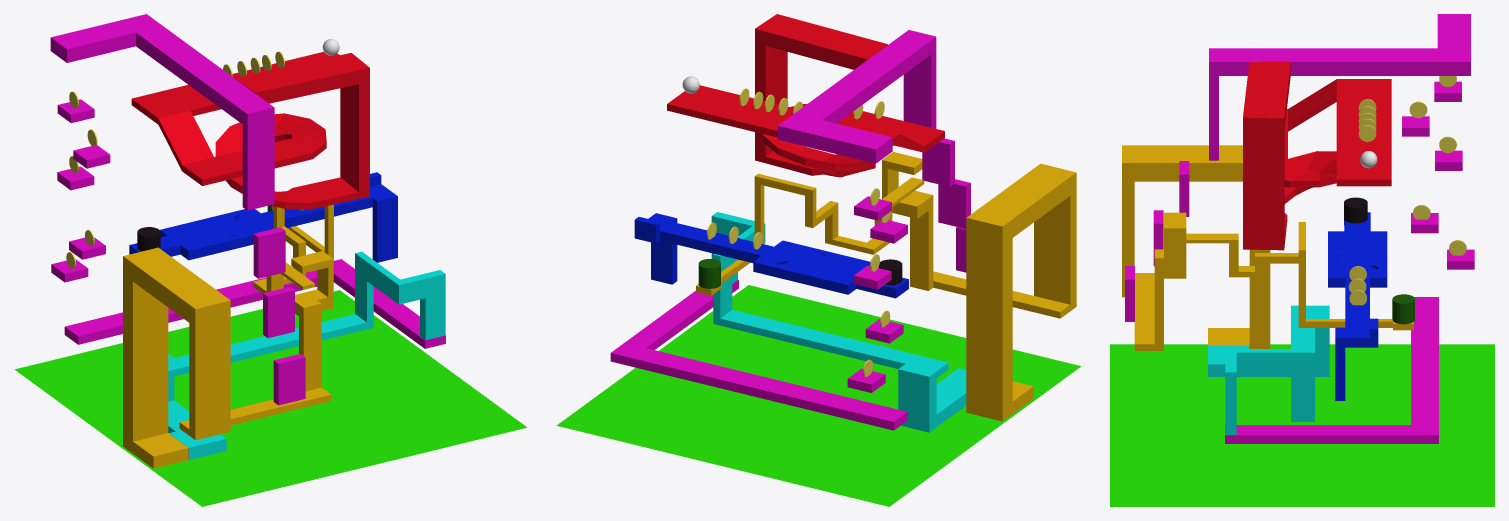
Rendered from Prototipo.fbx.
3 views of the same model, side by side, from view 1: azimuth 30°, elevation 25°; view 2: azimuth 150°, elevation 25°; view 3: azimuth 270°, elevation 25° (orthographic). The views are drawn at different scales.
Visible parts, largest first — view 1: Plane, Cube.013, Cube, Cube.006, Cube.001, Cube.002, Cube.012, Cube.014, Cube.005, Cube.003, Cube.004, Cube.008 (+4 smaller); view 2: Plane, Cube.013, Cube, Cube.006, Cube.001, Cube.012, Cube.002, Cube.014, Cube.004, Cube.005, Cube.008, Cube.009 (+4 smaller); view 3: Plane, Cube, Cube.013, Cube.006, Cube.012, Cube.001, Cube.002, Cube.014, Cylinder.007, Cylinder.006, Cube.005, Cube.008 (+6 smaller).
Boxes of the visible parts, x1,y1,x2,y2 form: Plane: [14, 290, 526, 506]; Cube.013: [123, 247, 333, 468]; Cube: [131, 51, 369, 209]; Cube.006: [50, 14, 274, 210]; Cube.001: [168, 251, 445, 459]; Cube.002: [129, 172, 397, 262]; Cube.012: [64, 259, 445, 348]; Cube.014: [253, 204, 333, 293]; Cube.005: [253, 227, 285, 278]; Cube.003: [273, 354, 305, 405]; Cube.004: [263, 286, 294, 338]; Cube.008: [73, 145, 110, 168]; Plane: [556, 285, 1081, 506]; Cube.013: [882, 152, 1076, 421]; Cube: [667, 14, 944, 177]; Cube.006: [777, 30, 936, 163]; Cube.001: [711, 212, 966, 432]; Cube.012: [610, 280, 907, 430]; Cube.002: [634, 213, 908, 298]; Cube.014: [696, 173, 924, 295]; Cube.004: [938, 179, 970, 228]; Cube.005: [922, 138, 954, 186]; Cube.008: [870, 220, 907, 243]; Cube.009: [853, 265, 891, 289]; Plane: [1110, 344, 1494, 506]; Cube: [1243, 61, 1391, 250]; Cube.013: [1122, 145, 1270, 350]; Cube.006: [1209, 14, 1470, 160]; Cube.012: [1225, 297, 1438, 443]; Cube.001: [1208, 305, 1329, 435]; Cube.002: [1328, 212, 1387, 400]; Cube.014: [1186, 222, 1413, 330]; Cylinder.007: [1392, 294, 1414, 324]; Cylinder.006: [1344, 197, 1367, 224]; Cube.005: [1179, 161, 1189, 216]; Cube.008: [1402, 116, 1429, 136].
Size of the model in its own units: 201 by 197 by 200.
